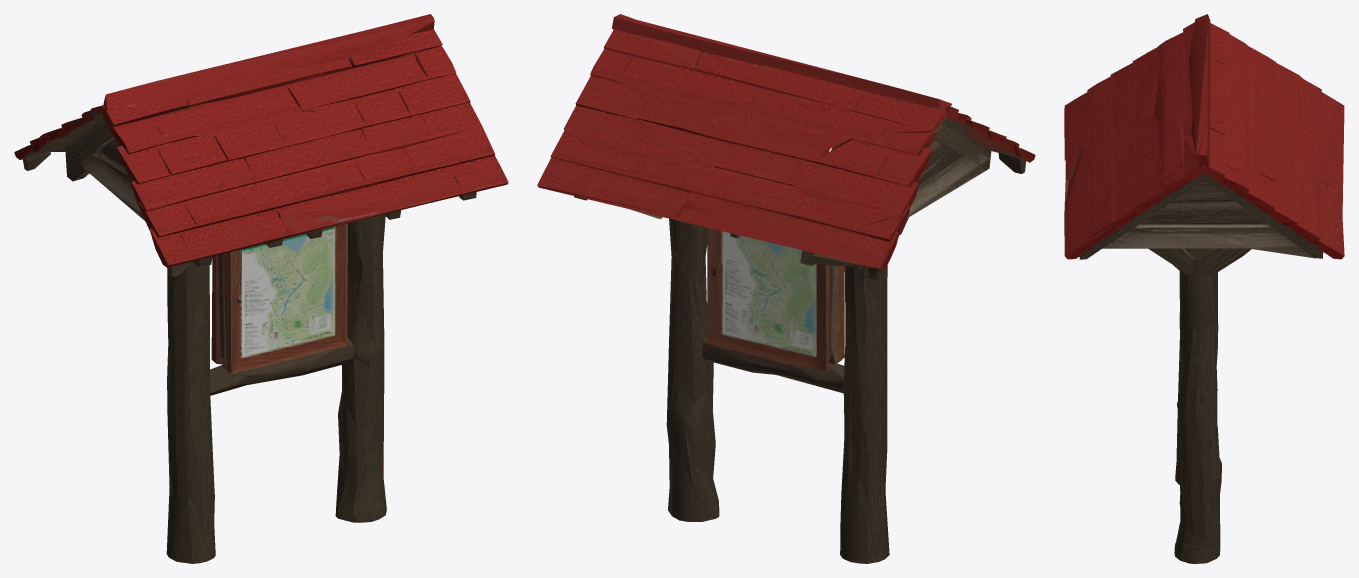
Rendered from trailhead.glb.
3 views of the same model, side by side, from view 1: azimuth 30°, elevation 25°; view 2: azimuth 150°, elevation 25°; view 3: azimuth 270°, elevation 25° (orthographic). The views are drawn at different scales.
Size of the model in its own units: 1.42 by 1.9 by 1.12.
1 material, 1 textured.
